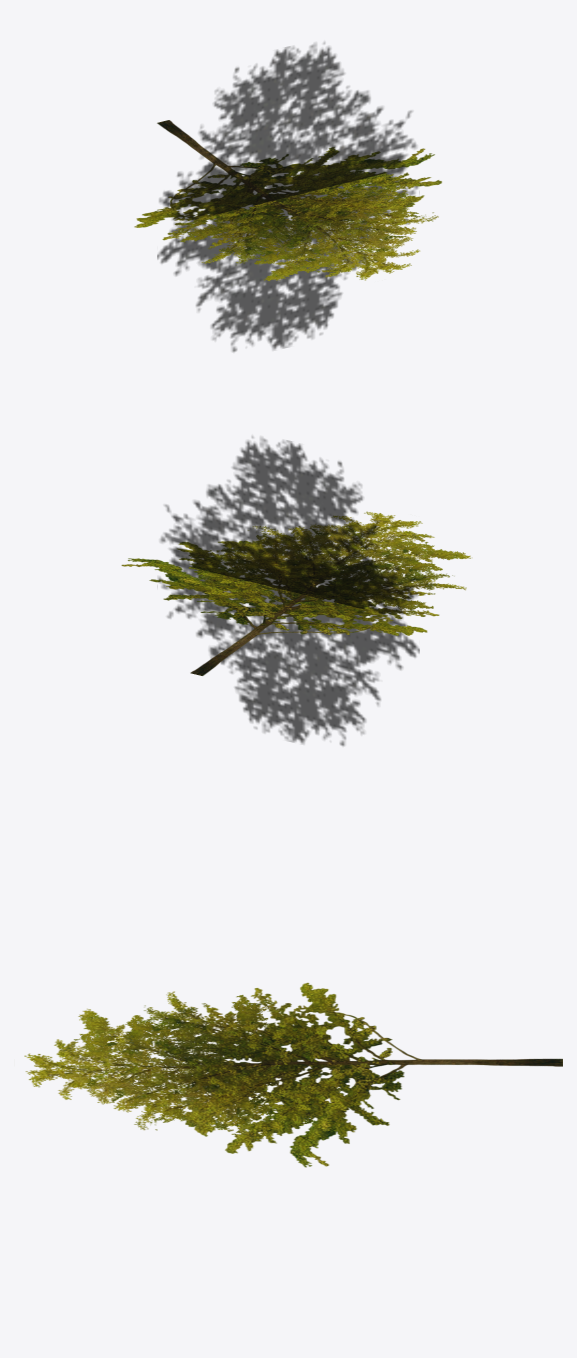
Rendered from tjjg00089.gltf.
3 renders of one model, top to bottom at view 1: azimuth 30°, elevation 25°; view 2: azimuth 150°, elevation 25°; view 3: azimuth 270°, elevation 25°, orthographic. The views are drawn at different scales.
Parts seen in each view (by area): view 1: Group_MatrixTransform_tjjg00089_Geometry_0, Group_MatrixTransform__Geometry_0; view 2: Group_MatrixTransform_tjjg00089_Geometry_0, Group_MatrixTransform__Geometry_0; view 3: Group_MatrixTransform__Geometry_0.
Boxes of the visible parts, bbox=[...] form: Group_MatrixTransform_tjjg00089_Geometry_0: bbox=[157, 42, 418, 351]; Group_MatrixTransform__Geometry_0: bbox=[134, 120, 441, 281]; Group_MatrixTransform_tjjg00089_Geometry_0: bbox=[158, 436, 419, 745]; Group_MatrixTransform__Geometry_0: bbox=[121, 511, 470, 675]; Group_MatrixTransform__Geometry_0: bbox=[24, 982, 562, 1167].
Size of the model in its own units: 5.1 by 4.43 by 5.8.
Materials: 2 (2 with a texture image).
